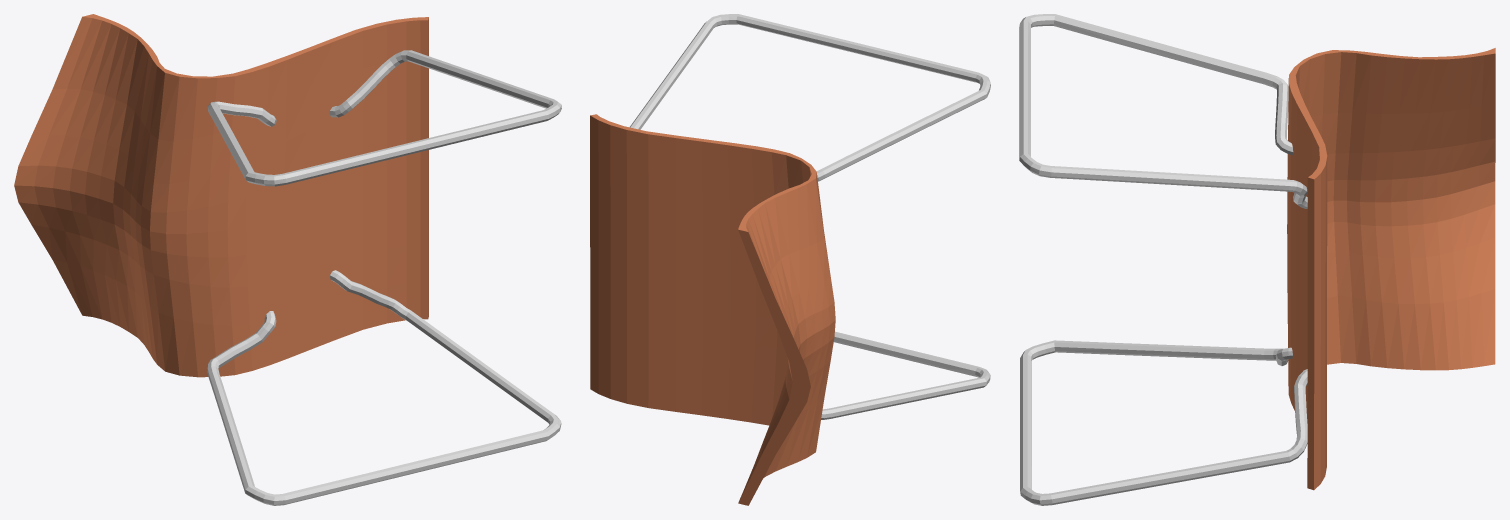
File: chairbyfan.dae
3 renders of one model, left to right at view 1: azimuth 30°, elevation 25°; view 2: azimuth 150°, elevation 25°; view 3: azimuth 270°, elevation 25°, orthographic. The views are drawn at different scales.
Visible parts, largest first — view 1: ShapeIndexedFaceSet; view 2: ShapeIndexedFaceSet; view 3: ShapeIndexedFaceSet.
Part boxes in pixels (x1=…): ShapeIndexedFaceSet: x1=14, y1=14, x2=561, y2=505; ShapeIndexedFaceSet: x1=590, y1=14, x2=990, y2=505; ShapeIndexedFaceSet: x1=1019, y1=14, x2=1495, y2=505.
Size of the model in its own units: 0.5918 by 0.7123 by 0.5675.
